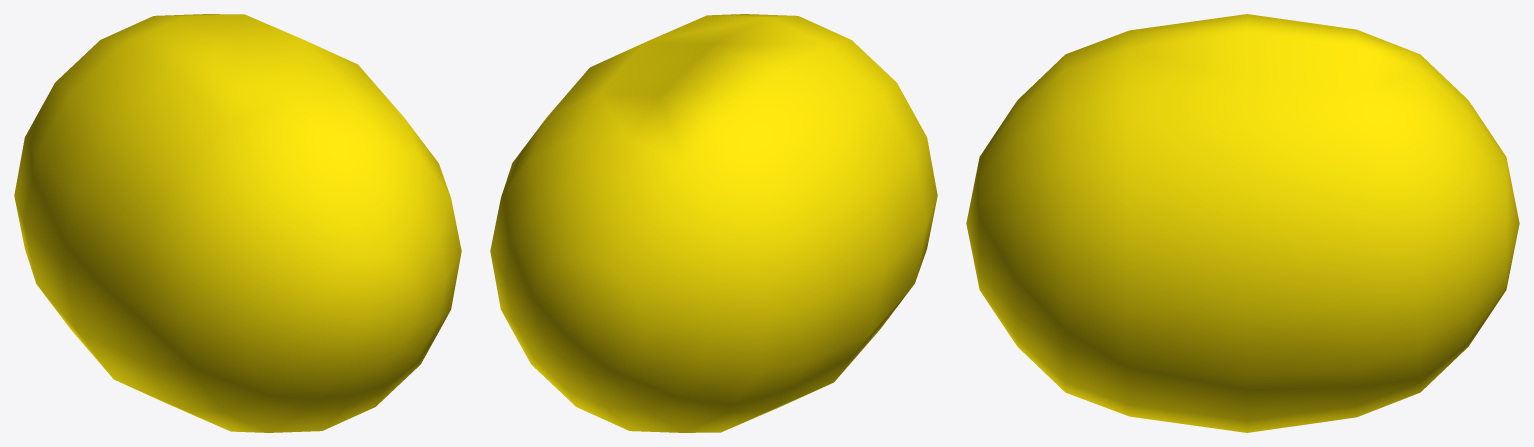
File: melon.fbx
3 renders of one model, left to right at view 1: azimuth 30°, elevation 25°; view 2: azimuth 150°, elevation 25°; view 3: azimuth 270°, elevation 25°, orthographic. The views are drawn at different scales.
Parts seen in each view (by area): view 1: Melao; view 2: Melao; view 3: Melao.
Part boxes in pixels (box(x1,y1,x2,y2)): Melao: box(14, 14, 461, 432); Melao: box(490, 14, 937, 432); Melao: box(966, 14, 1519, 432).
Size of the model in its own units: 22.45 by 22.45 by 29.62.
